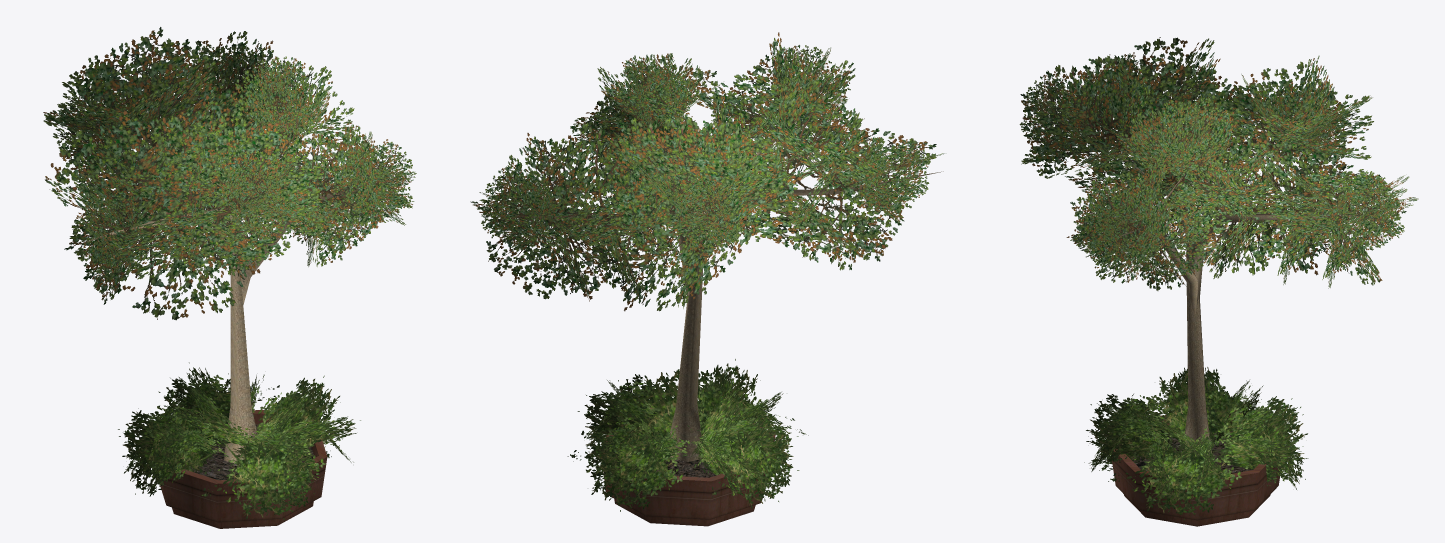
The model's file is mun_all_imprv_planter_s02_l1.fbx.
3 views of the same model, side by side, from view 1: azimuth 30°, elevation 25°; view 2: azimuth 150°, elevation 25°; view 3: azimuth 270°, elevation 25° (orthographic). The views are drawn at different scales.
Parts seen in each view (by area): view 1: mesh_node; view 2: mesh_node; view 3: mesh_node.
Boxes of the visible parts, <box> form: mesh_node: <box>43,27,416,528</box>; mesh_node: <box>470,32,944,526</box>; mesh_node: <box>1019,37,1418,526</box>.
Bounding box in the file's own units: 7.48 × 8.62 × 8.07.
